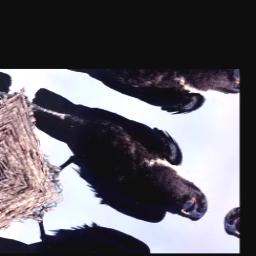Crow: (0, 78, 229, 244)
